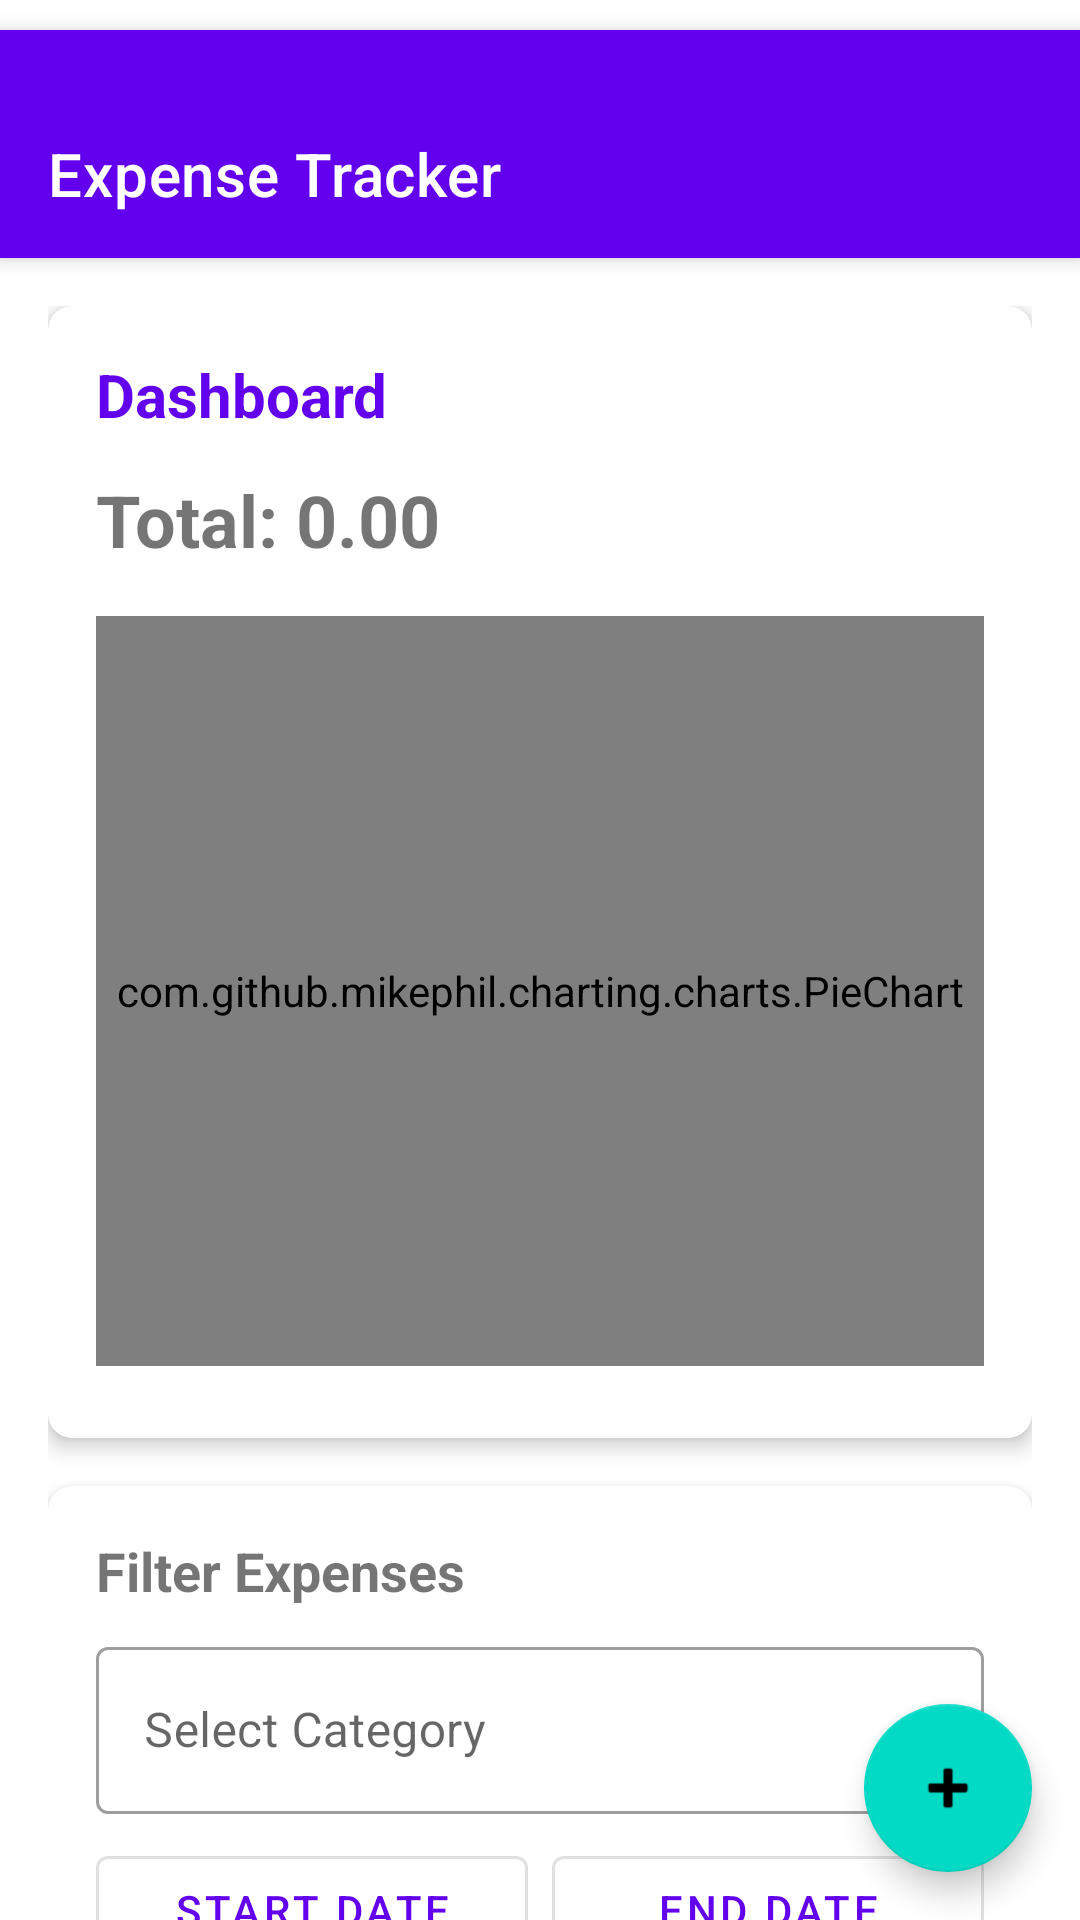

Named icons in this screenshot (1080 × 1920) and their bounding boxes, (x1, y1, x2, y2):
Add Expense: (864, 1704, 1032, 1872)
